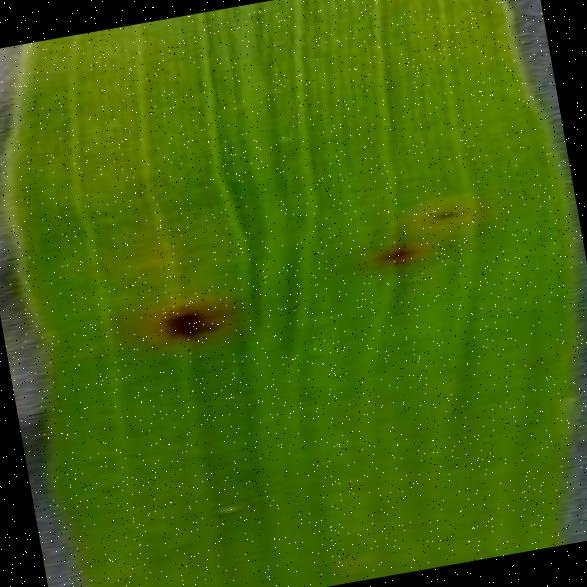Brown_Spot: (146, 278, 246, 366), (406, 180, 490, 240), (353, 228, 426, 282)
